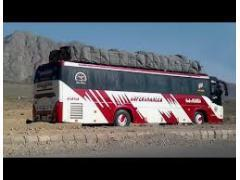bus: (29, 47, 227, 128)
